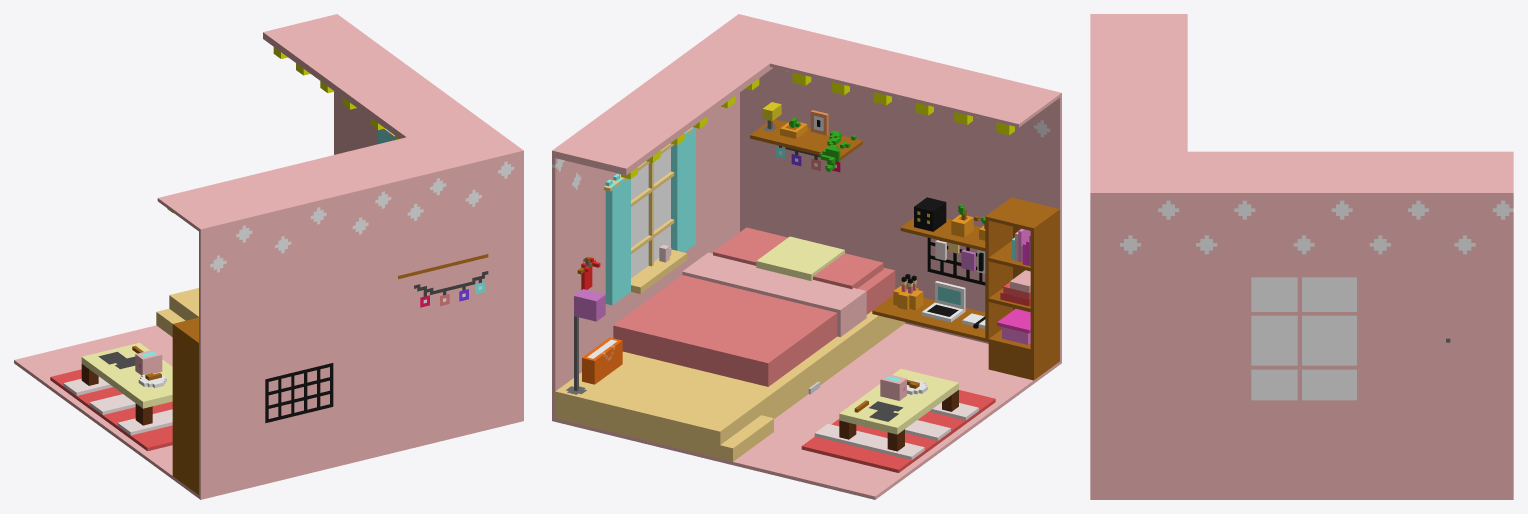
Rendered from escenarioGrande.glb.
3 views of the same model, side by side, from view 1: azimuth 30°, elevation 25°; view 2: azimuth 150°, elevation 25°; view 3: azimuth 270°, elevation 25° (orthographic). The views are drawn at different scales.
Parts seen in each view (by area): view 1: defaultobject; view 2: defaultobject; view 3: defaultobject.
Part boxes in pixels (x1,y1,x2,y2): defaultobject: [14, 14, 523, 499]; defaultobject: [552, 14, 1061, 499]; defaultobject: [1090, 14, 1513, 499].
Size of the model in its own units: 38.33 by 31.66 by 38.33.
Materials: 2 (1 with a texture image).
